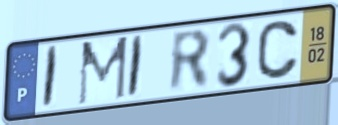3: (215, 20, 254, 90)
C: (255, 18, 301, 82)
I: (125, 33, 146, 101), (40, 43, 61, 111)
M: (76, 34, 131, 109)
R: (168, 27, 212, 96)
